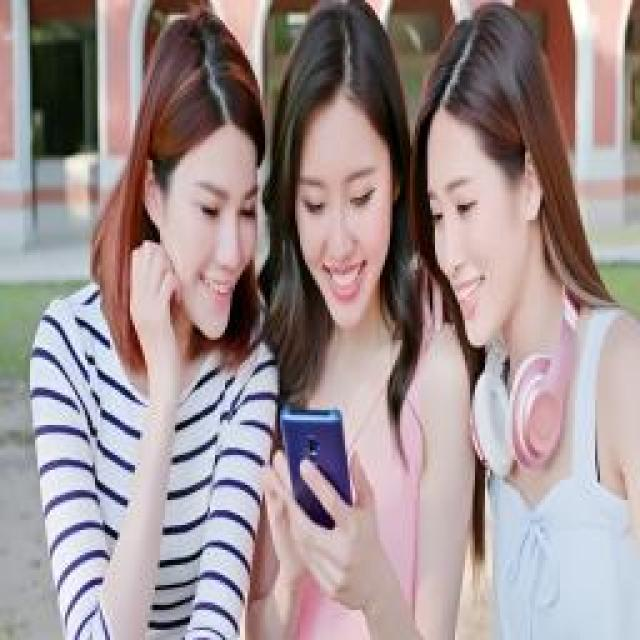phone: (250, 0, 470, 640)
